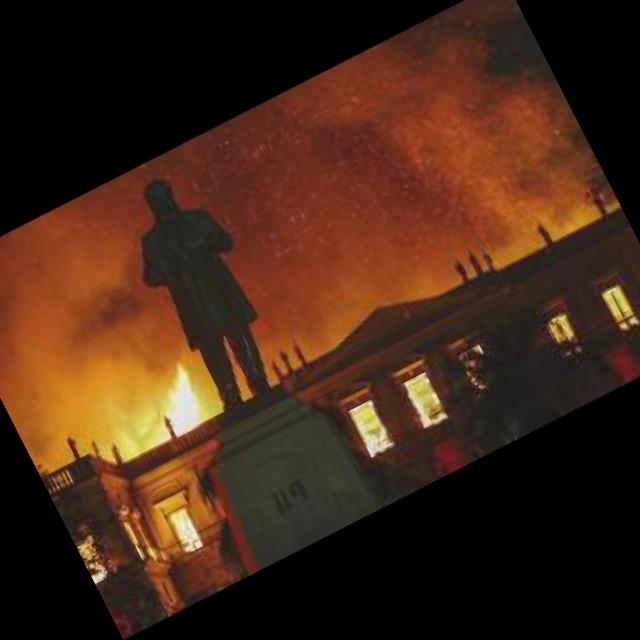fire: (125, 348, 218, 442), (348, 394, 396, 454), (402, 367, 449, 425), (168, 506, 204, 552), (85, 557, 108, 582)
